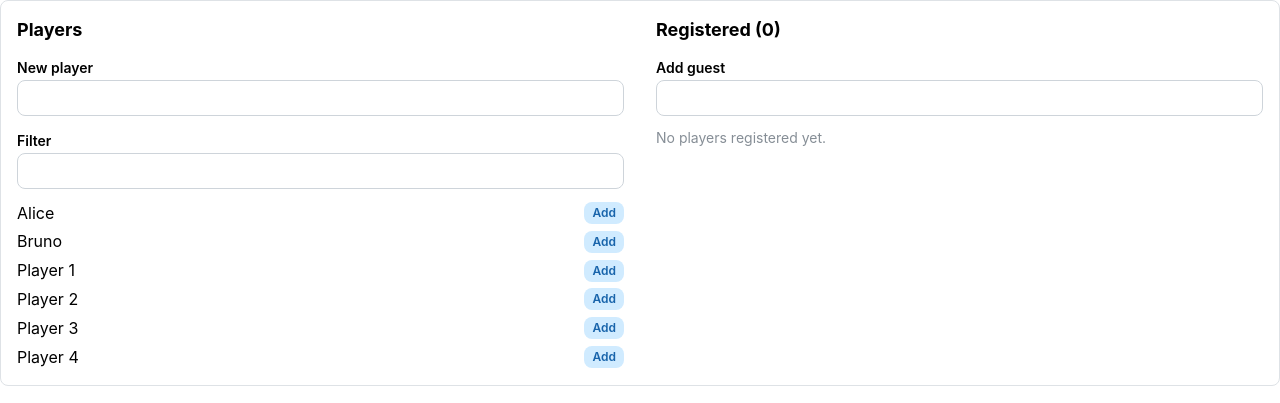
Test: RegistrationPanel in setup › moves a player right when the row is clicked
Click the button "Alice". click: point(36, 213)
box: [17,201,568,226]
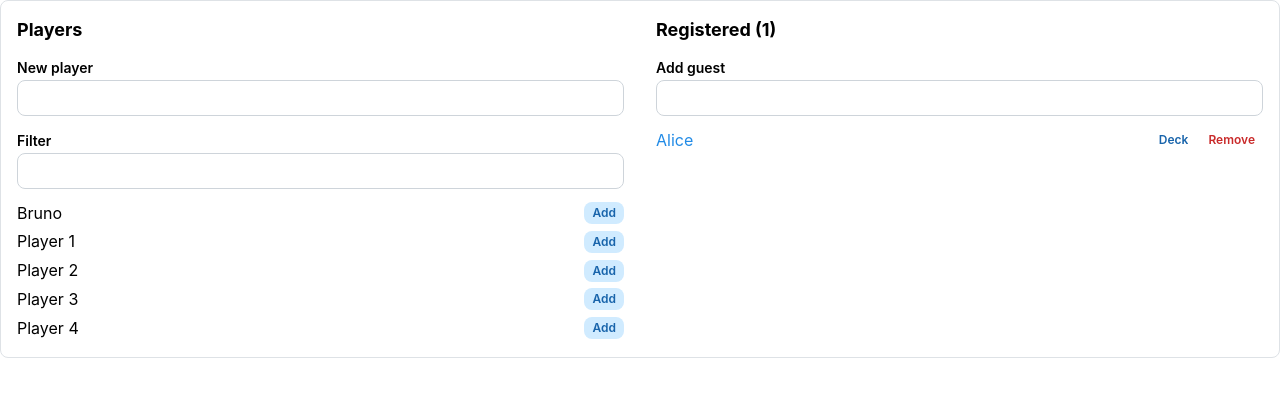
expect the text "Alice" is not shown: met
expect the heading "Registered (1)" is shown: met, box [656,19,776,40]
